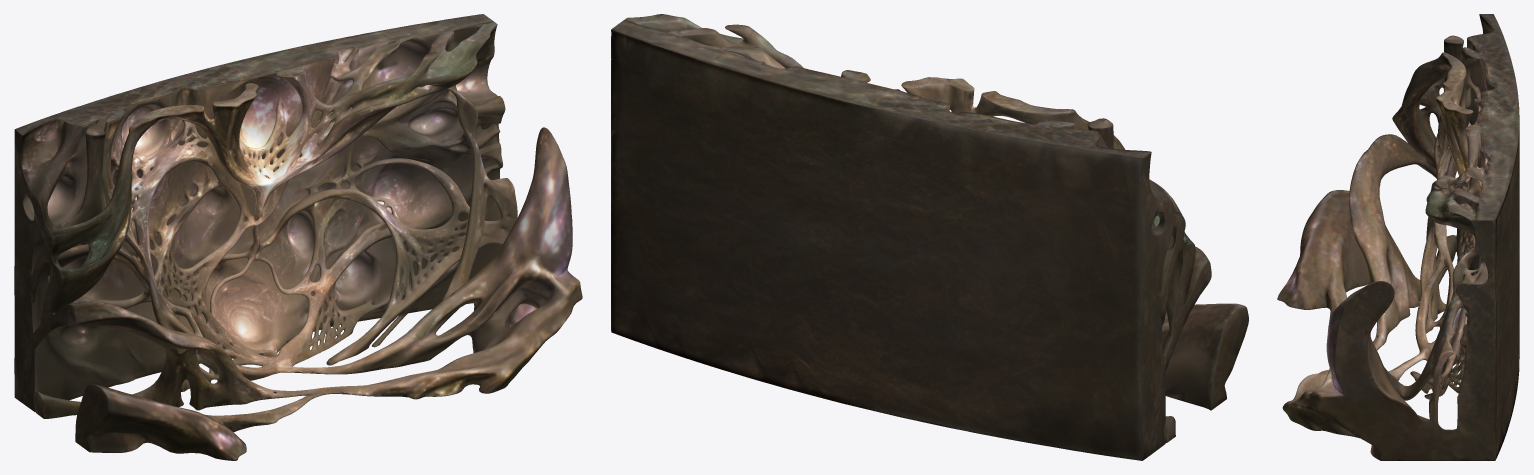
File: descent.glb
The picture shows the model from 3 angles, left to right: view 1: azimuth 30°, elevation 25°; view 2: azimuth 150°, elevation 25°; view 3: azimuth 270°, elevation 25°; orthographic projection. The views are drawn at different scales.
Visible parts, largest first — view 1: tripo_node_2c56e40a-74bf-403e-9d1c-191def36cbaf; view 2: tripo_node_2c56e40a-74bf-403e-9d1c-191def36cbaf; view 3: tripo_node_2c56e40a-74bf-403e-9d1c-191def36cbaf.
Boxes of the visible parts, <box> form: tripo_node_2c56e40a-74bf-403e-9d1c-191def36cbaf: <box>14,14,582,460</box>; tripo_node_2c56e40a-74bf-403e-9d1c-191def36cbaf: <box>611,14,1248,460</box>; tripo_node_2c56e40a-74bf-403e-9d1c-191def36cbaf: <box>1277,14,1519,460</box>.
Size of the model in its own units: 0.9806 by 0.5363 by 0.4862.
1 material, 1 textured.
